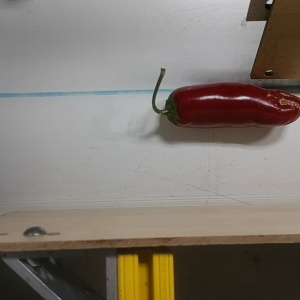Cut Point: (160, 87, 192, 129)
